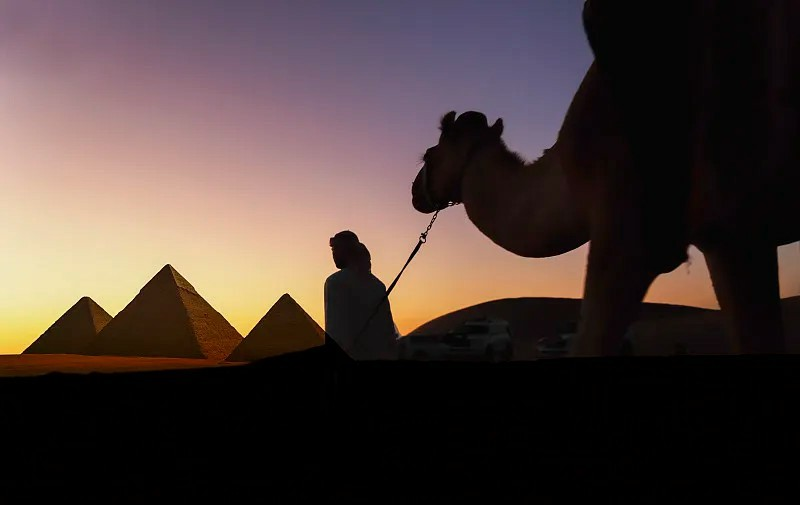Pyramid: (87, 265, 245, 361), (227, 294, 326, 361), (21, 296, 111, 356)
